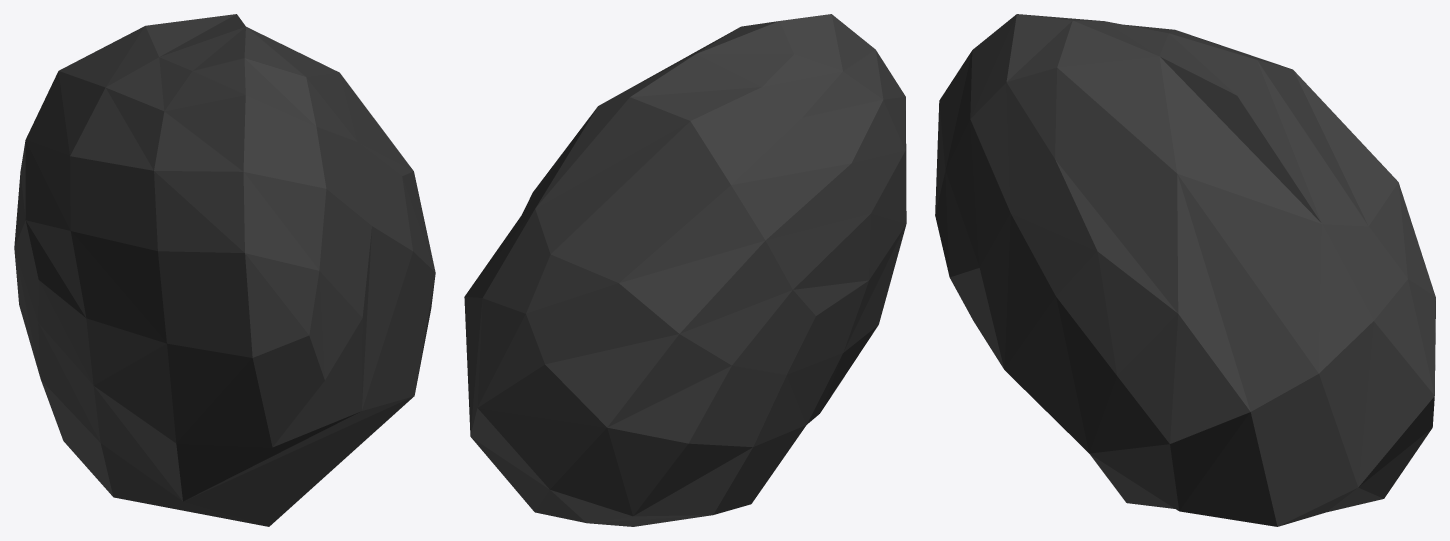
File: RFL_carpal4.glb
3 views of the same model, side by side, from view 1: azimuth 30°, elevation 25°; view 2: azimuth 150°, elevation 25°; view 3: azimuth 270°, elevation 25° (orthographic). The views are drawn at different scales.
Parts seen in each view (by area): view 1: RFL_carpal4; view 2: RFL_carpal4; view 3: RFL_carpal4.
Boxes of the visible parts, x1,y1,x2,y2 form: RFL_carpal4: (14,14,435,526); RFL_carpal4: (464,14,906,526); RFL_carpal4: (935,14,1435,526).
Bounding box in the file's own units: 3.77 × 4.83 × 4.63.
1 material, 1 textured.
